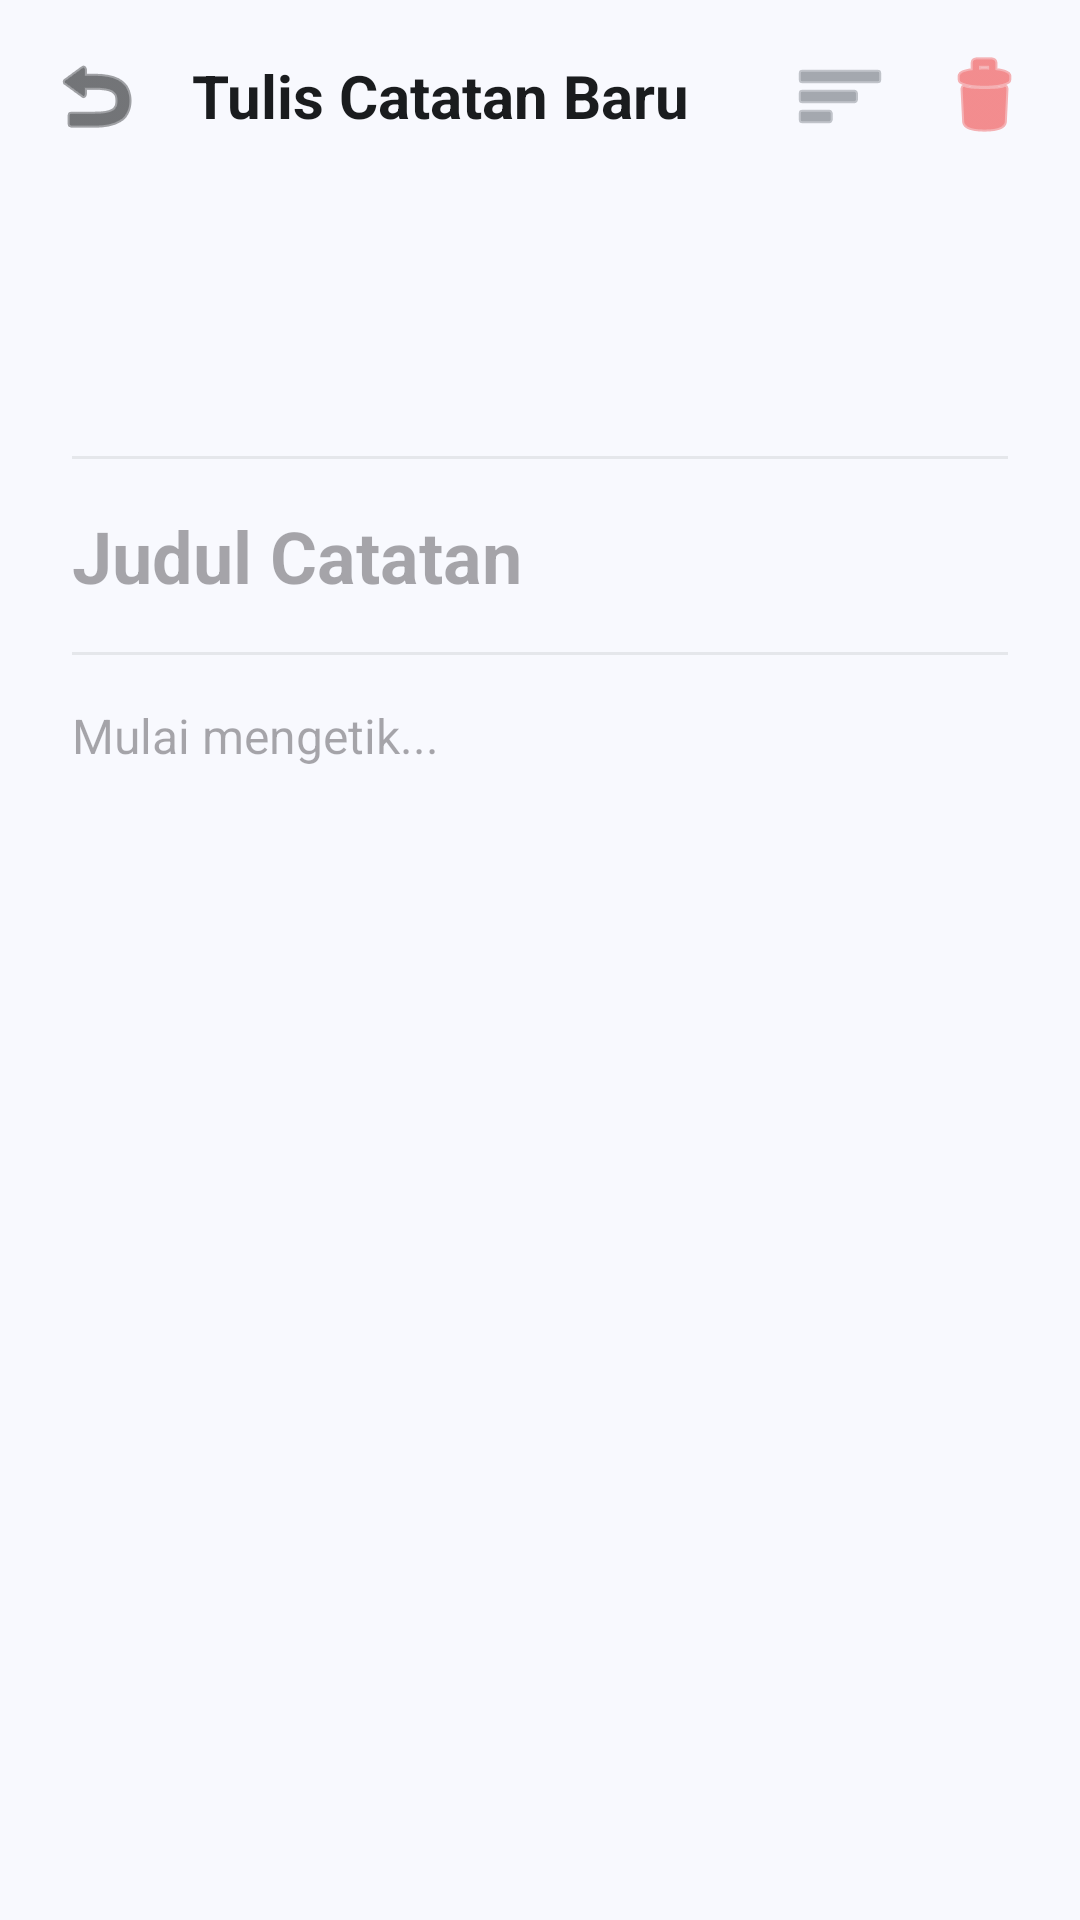

Where to tap for icons on this 1080px x 1920px app screen, as (x,y):
delete: (984,94)
revert: (97,96)
sort by size: (840,96)
